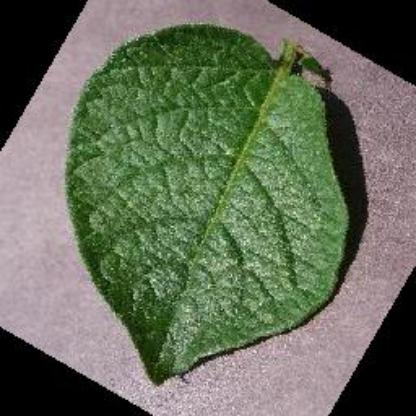Healthy-plant: (69, 16, 356, 390)
